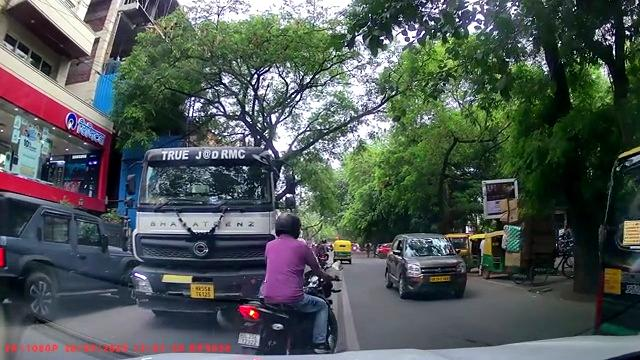motorcycle_with_helmet: (235, 211, 339, 354)
